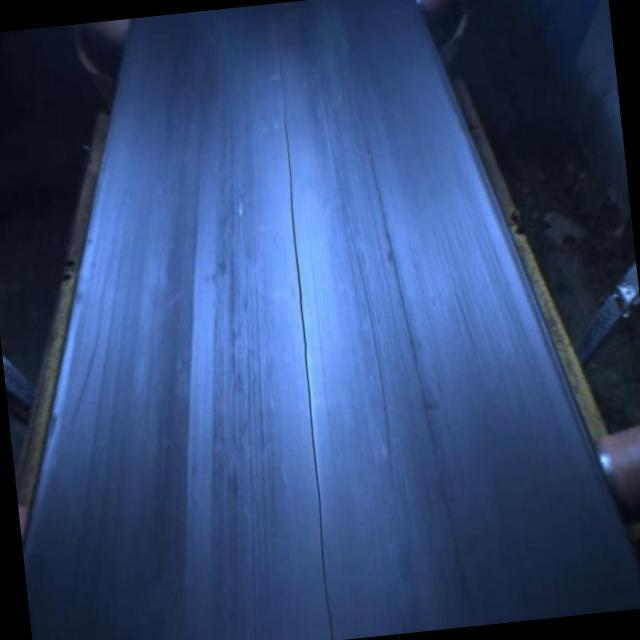Tear: (272, 49, 340, 640)
